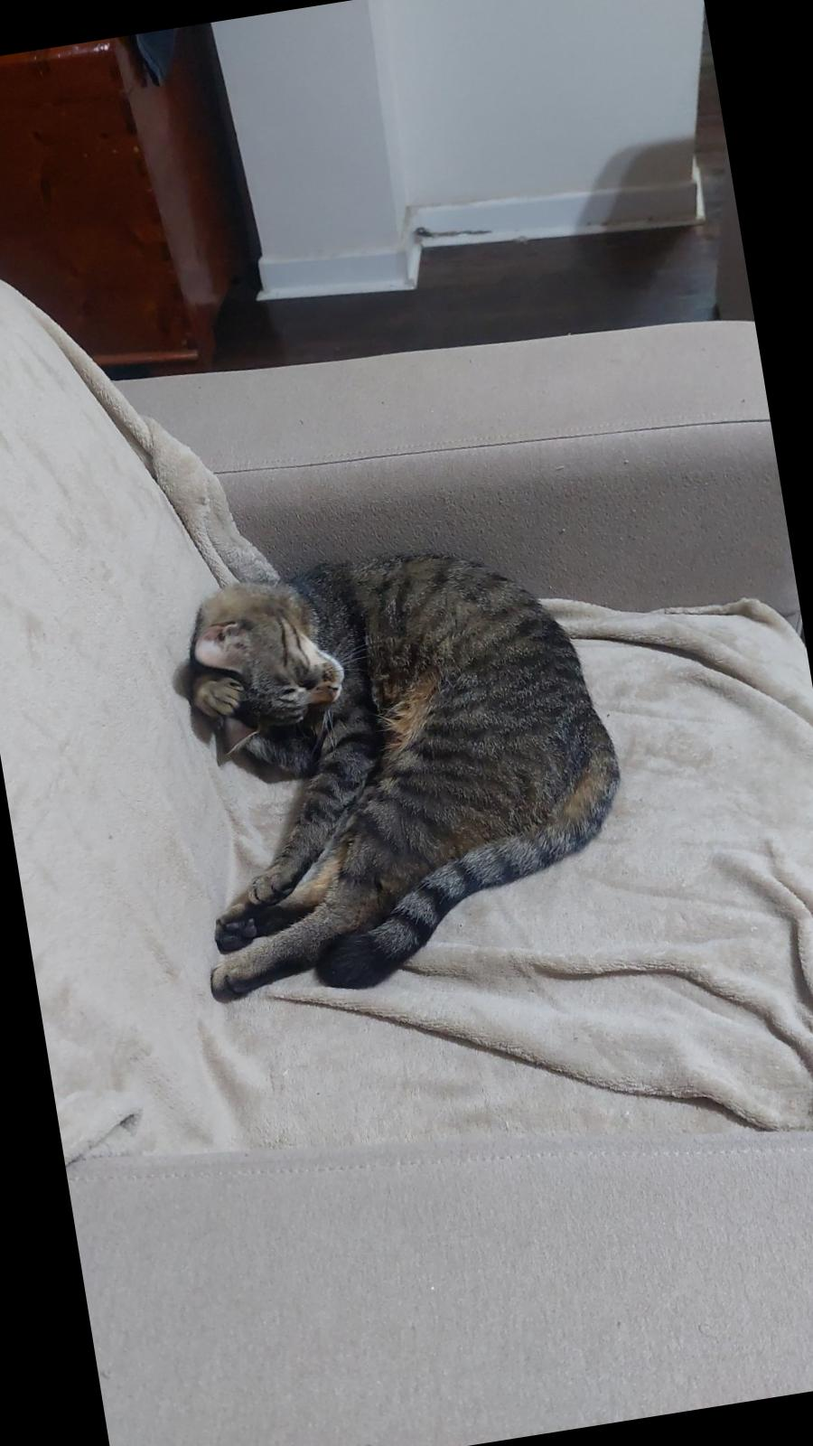macka: (146, 523, 645, 1014)
